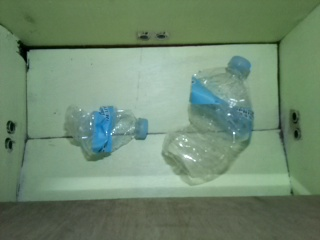damaged-bottle: (160, 53, 256, 186), (64, 105, 149, 162)
